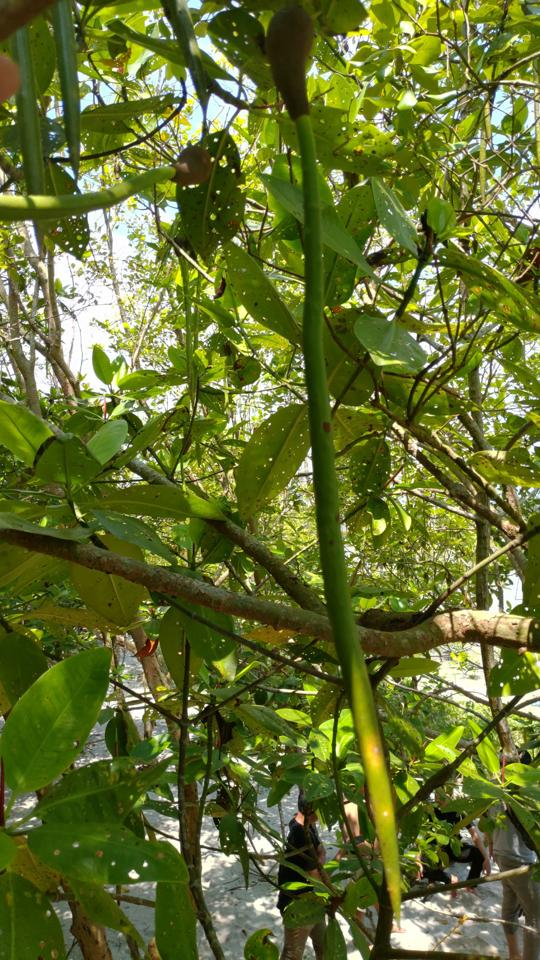mentah: (257, 1, 426, 933)
